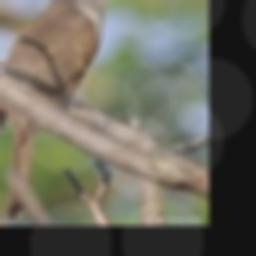Cuckoo: (0, 0, 140, 220)
